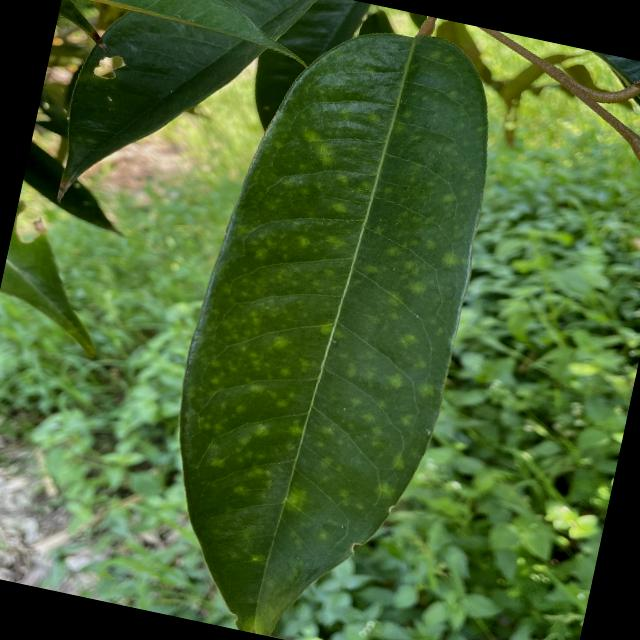Leaf Spot: (133, 0, 528, 639)
